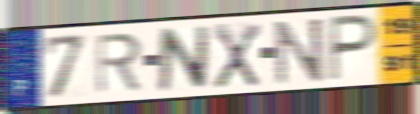7: (43, 32, 88, 101)
N: (156, 24, 212, 94), (273, 16, 326, 87)
P: (326, 12, 379, 83)
R: (93, 31, 144, 97)
X: (212, 22, 263, 91)
